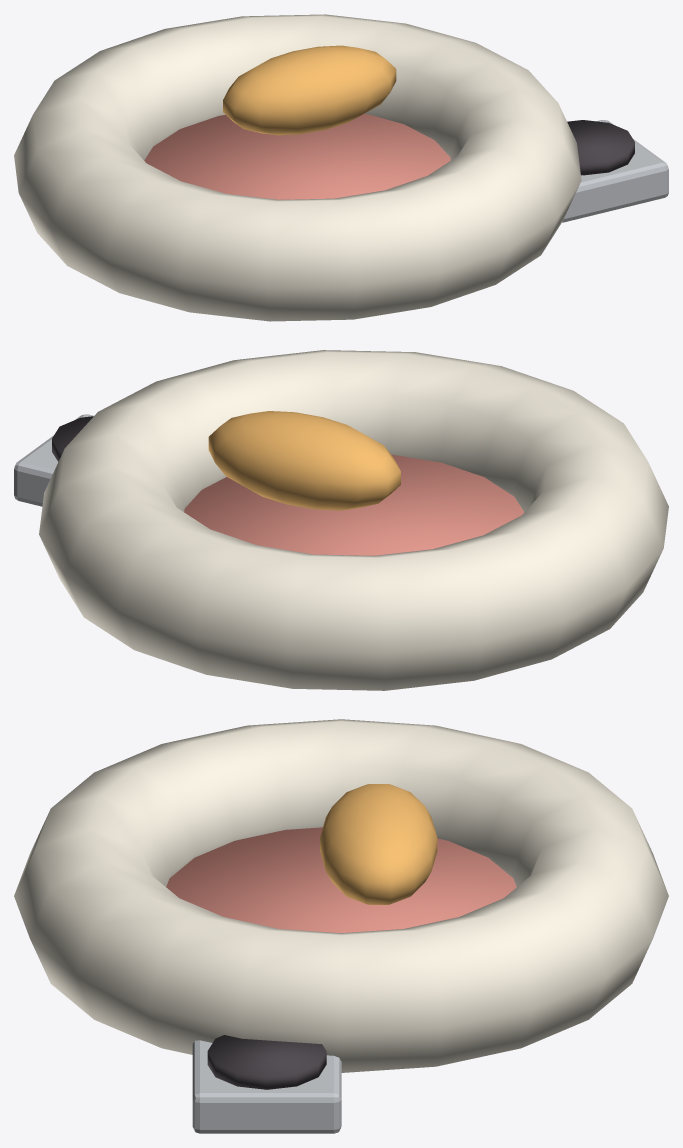
Rendered from CatBed.fbx.
3 renders of one model, top to bottom at view 1: azimuth 30°, elevation 25°; view 2: azimuth 150°, elevation 25°; view 3: azimuth 270°, elevation 25°, orthographic. The views are drawn at different scales.
Parts seen in each view (by area): view 1: CatBed; view 2: CatBed; view 3: CatBed.
Part boxes in pixels (x1,y1,x2,y2): CatBed: [14, 14, 668, 321]; CatBed: [14, 350, 668, 690]; CatBed: [14, 719, 668, 1133].
Size of the model in its own units: 99 by 26 by 88.
